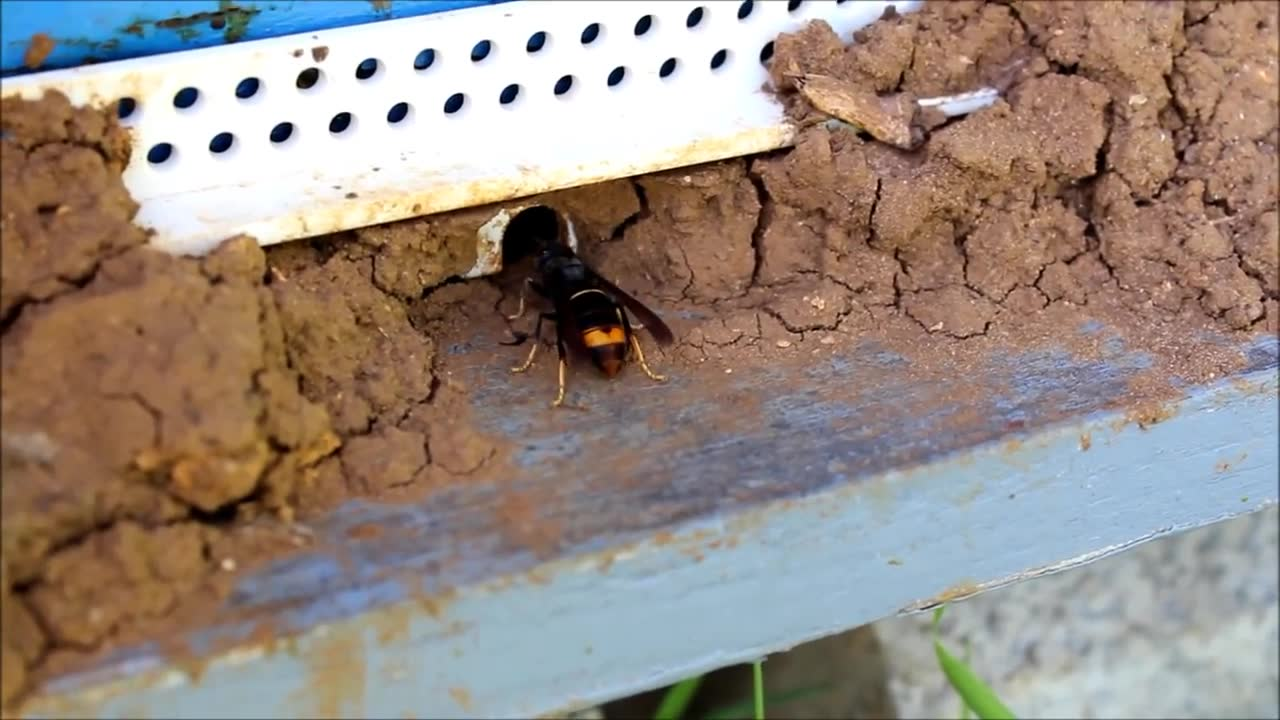hornet: (515, 242, 669, 389)
